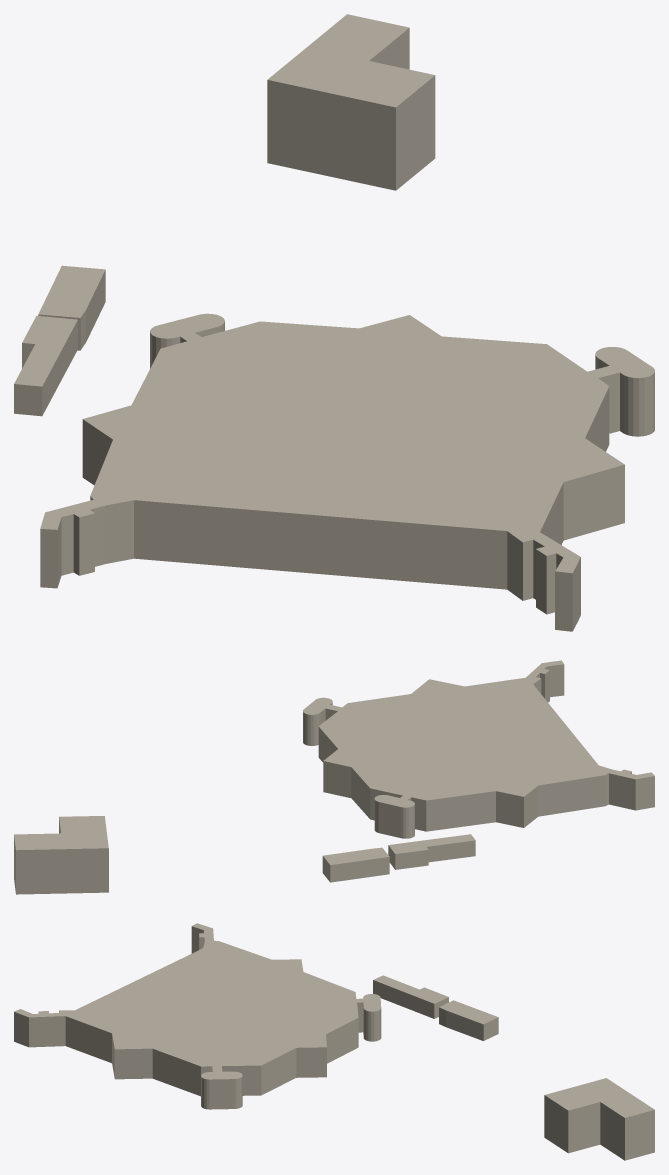
Rendered from bormla_63_30_mid.glb.
The picture shows the model from 3 angles, top to bottom: view 1: azimuth 30°, elevation 25°; view 2: azimuth 150°, elevation 25°; view 3: azimuth 270°, elevation 25°; orthographic projection. The views are drawn at different scales.
Parts seen in each view (by area): view 1: geometry_0; view 2: geometry_0; view 3: geometry_0.
Part boxes in pixels (x1,y1,x2,y2): geometry_0: [14, 14, 654, 631]; geometry_0: [14, 660, 654, 894]; geometry_0: [14, 923, 654, 1160].
Size of the model in its own units: 124 by 12.52 by 170.
